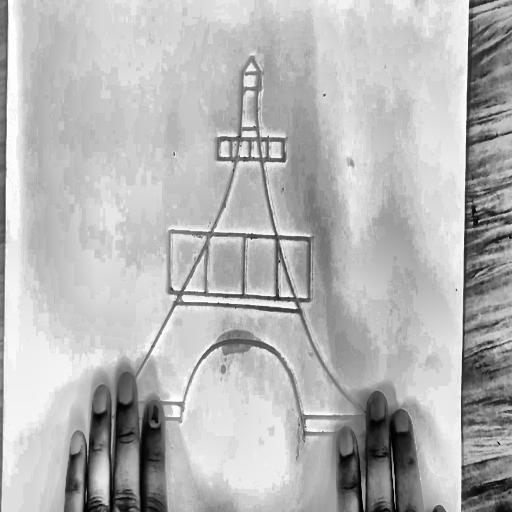eiffel-tower: (96, 27, 412, 449)
